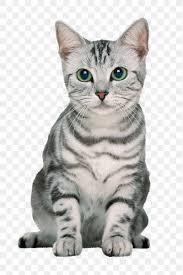non-mango: (18, 17, 151, 256)
